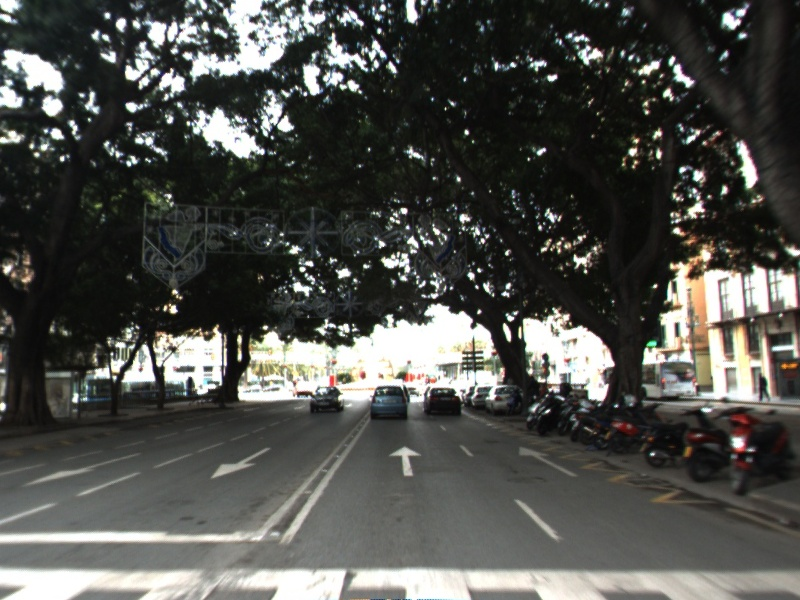STRAIGHT: (517, 444, 581, 479), (387, 444, 424, 478)
